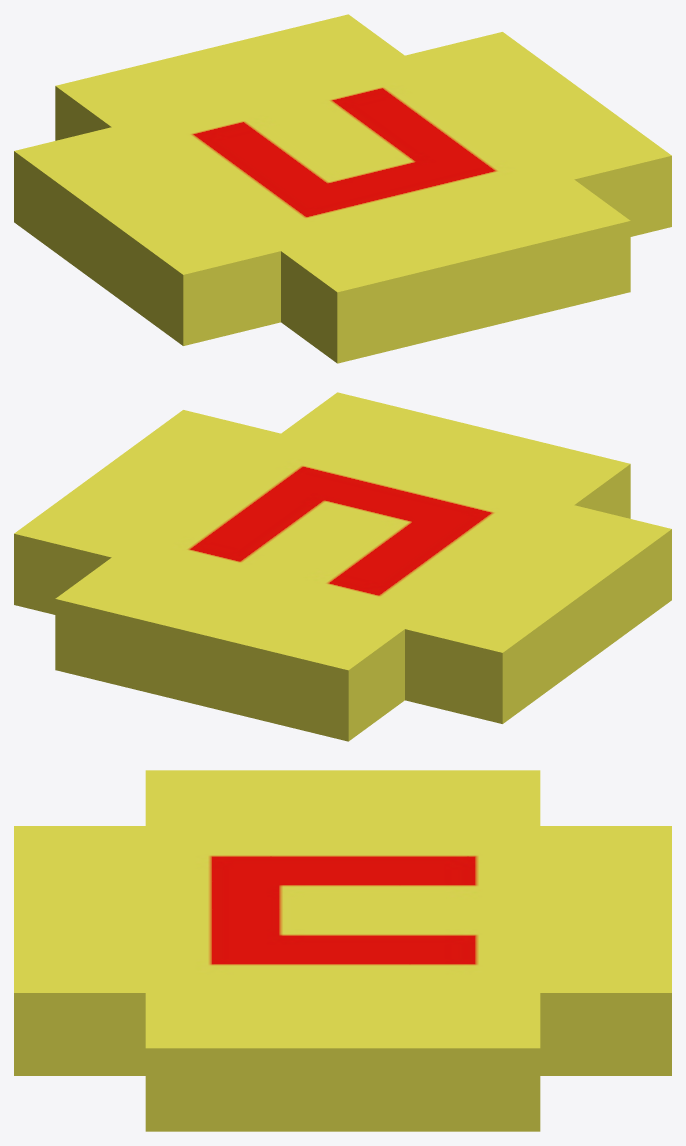
Rendered from coin.fbx.
3 renders of one model, top to bottom at view 1: azimuth 30°, elevation 25°; view 2: azimuth 150°, elevation 25°; view 3: azimuth 270°, elevation 25°, orthographic. The views are drawn at different scales.
Parts seen in each view (by area): view 1: Coin; view 2: Coin; view 3: Coin.
Boxes of the visible parts, <box> form: Coin: <box>14,14,671,363</box>; Coin: <box>14,392,671,741</box>; Coin: <box>14,770,671,1131</box>.
Size of the model in its own units: 0.6817 by 0.095 by 0.6817.
Materials: 1 (1 with a texture image).
